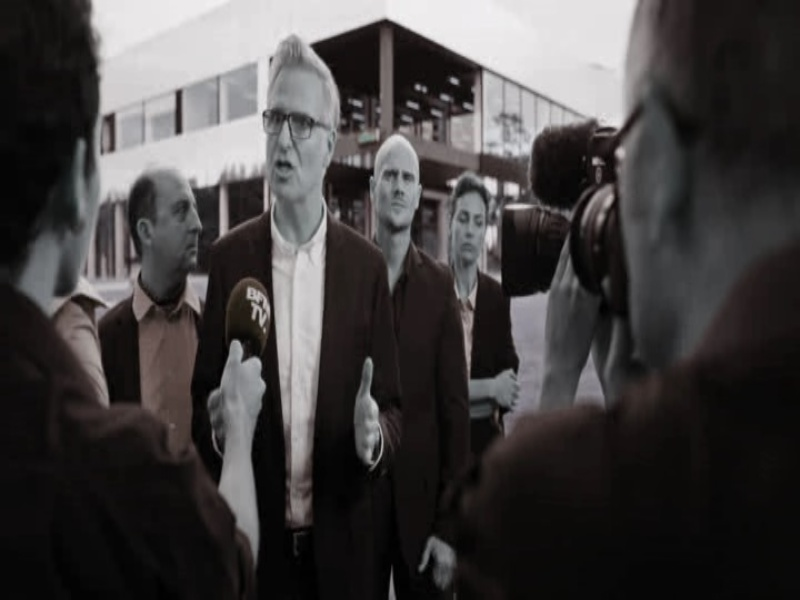TsisyArotava: (252, 44, 341, 216), (122, 171, 214, 280), (365, 132, 430, 241)
